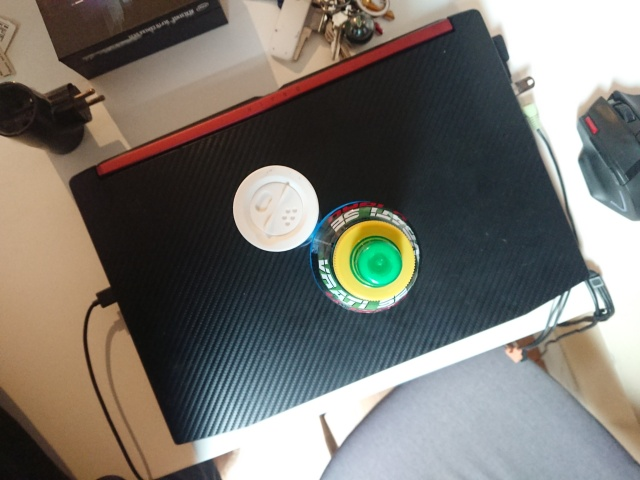Solana Pag Fine Sea Salt 250g: (231, 163, 322, 255)
Vindi Iso Sport Forest Strawberries 500mL: (308, 198, 423, 315)
